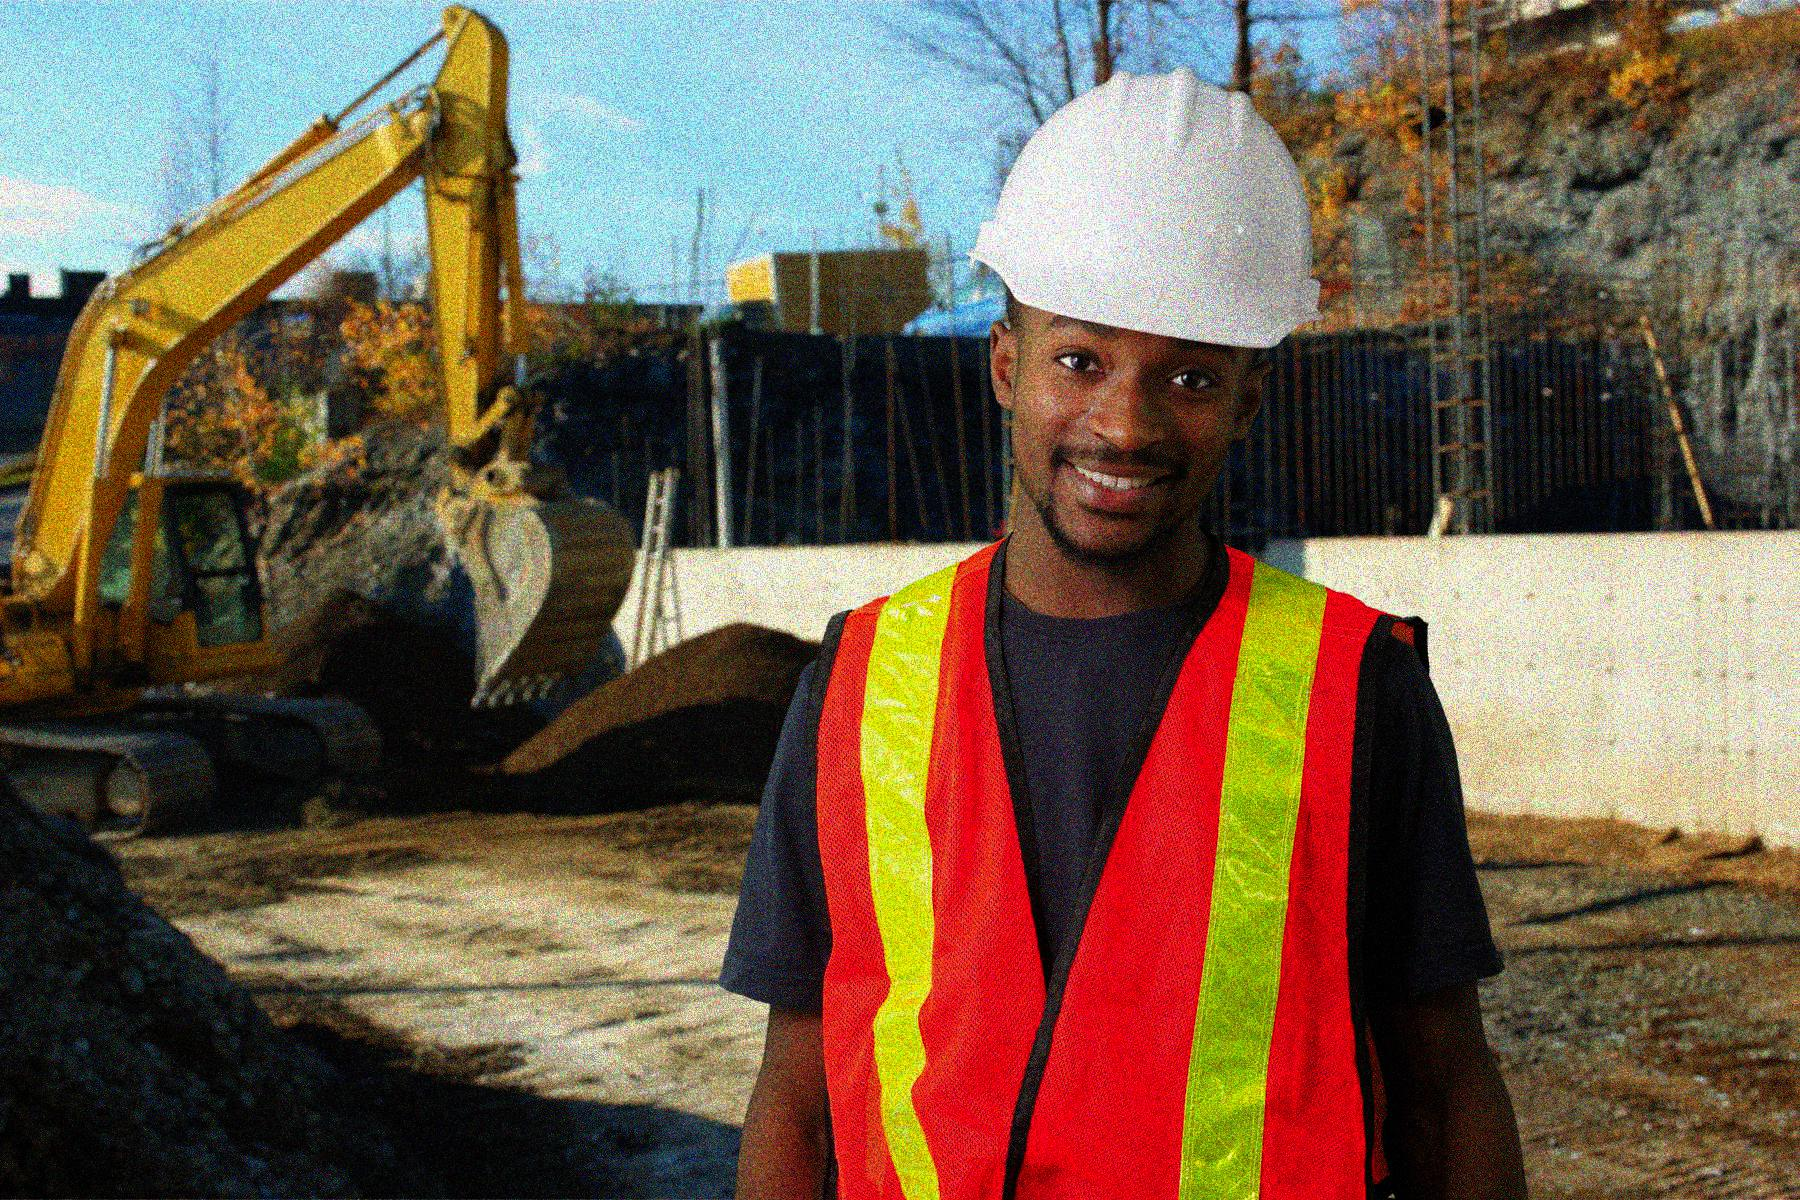helmet: (954, 64, 1329, 568)
